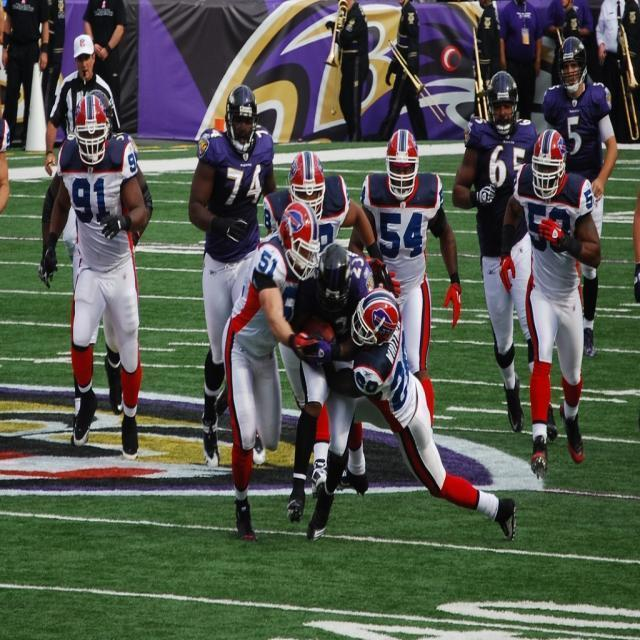ball: (304, 315, 339, 345)
